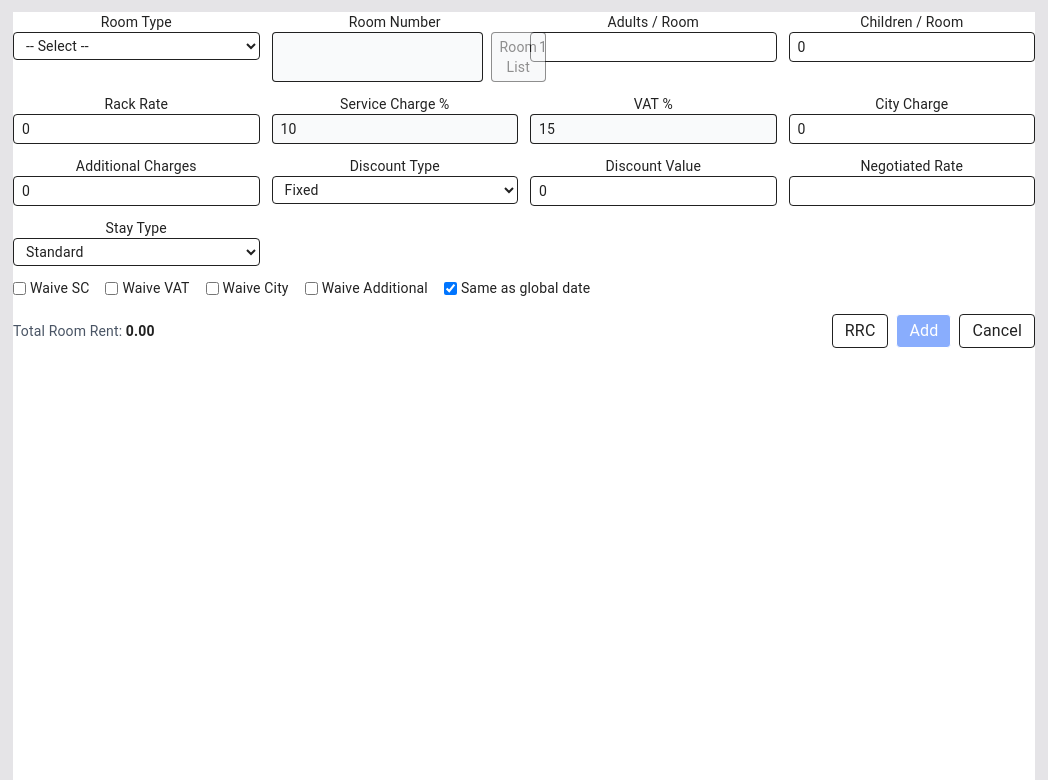
RoomForm waive VAT › checking waive VAT recomputes total without VAT
The width and height of the screenshot is (1048, 780).
Step 1. Select "Deluxe" in the dropdown below "Room Type" → (136, 46), box left=13, top=32, right=260, bottom=60
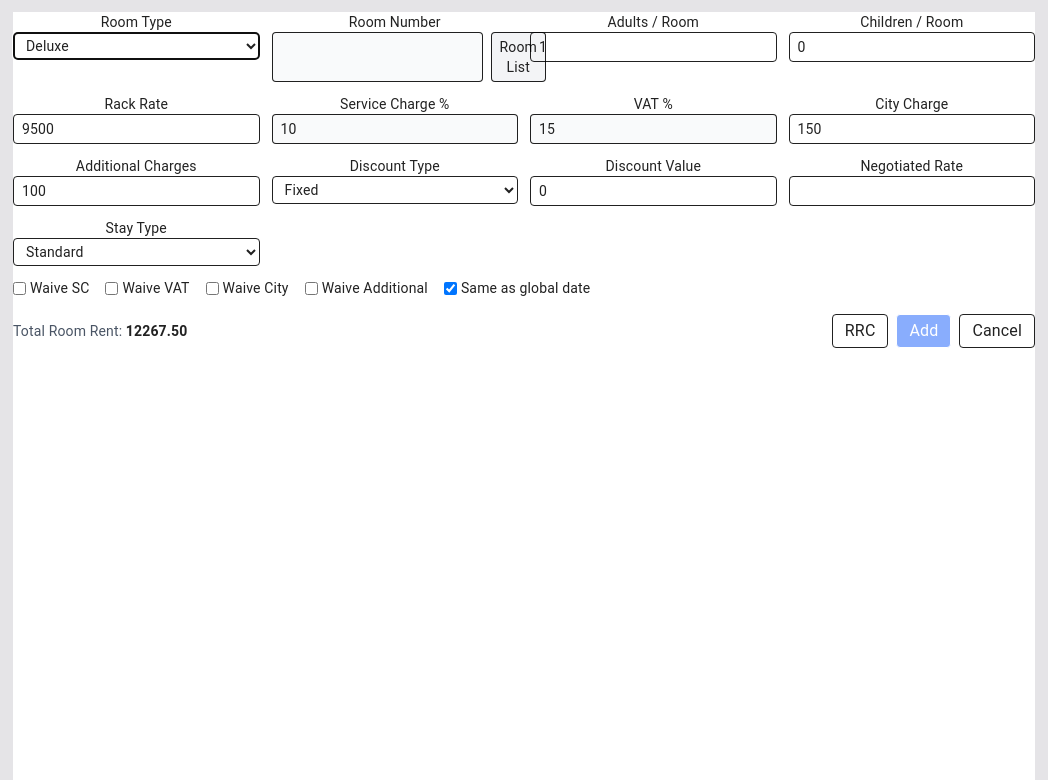
expect the number field below "Rack Rate" holds "9500": met, box left=13, top=114, right=260, bottom=144
expect the text "12267.50" is shown: met, box left=126, top=323, right=187, bottom=339
Step 2. Click the checkbox labelled "Waive VAT" → (112, 288), box left=105, top=282, right=118, bottom=294
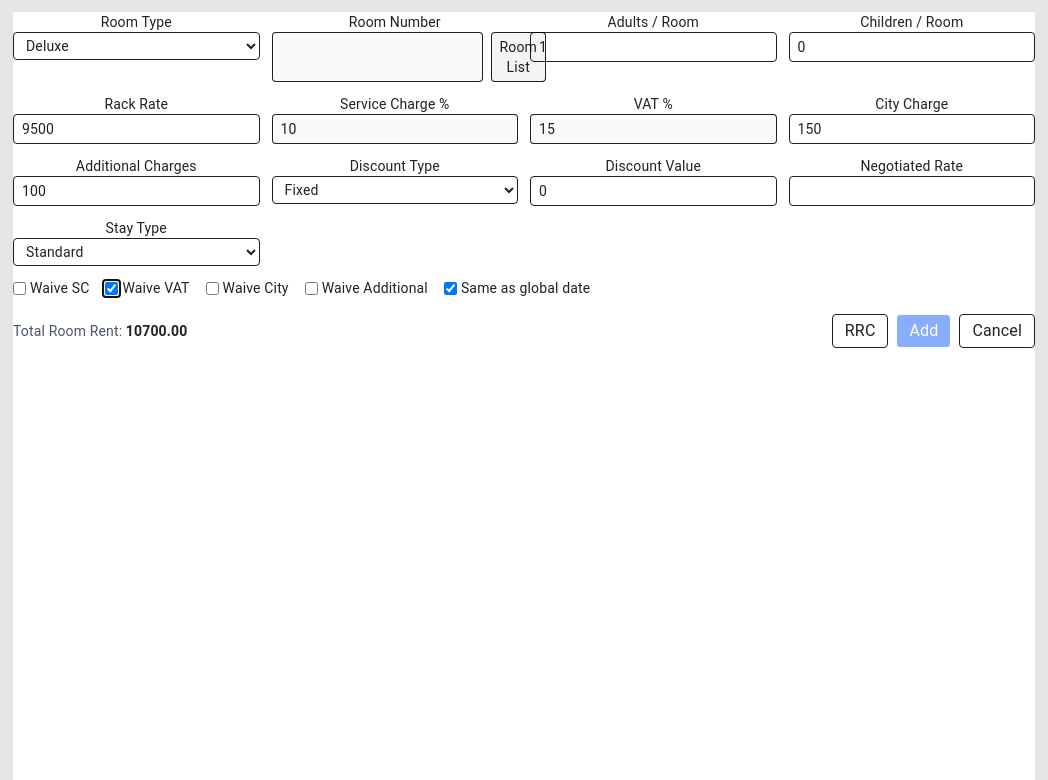
expect the text "10700.00" is shown: met, box left=126, top=323, right=187, bottom=339
